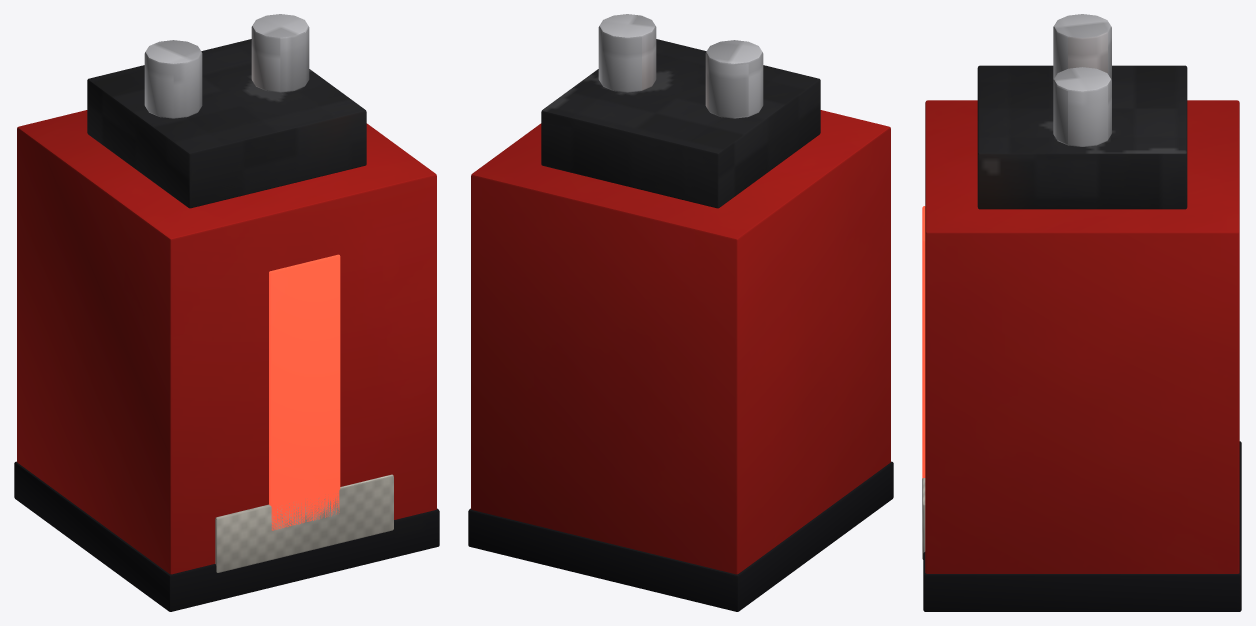
The model's file is prop_battery.glb.
The picture shows the model from 3 angles, left to right: view 1: azimuth 30°, elevation 25°; view 2: azimuth 150°, elevation 25°; view 3: azimuth 270°, elevation 25°; orthographic projection.
Parts seen in each view (by area): view 1: prop_battery; view 2: prop_battery; view 3: prop_battery.
Part boxes in pixels (x1,y1,x2,y2): prop_battery: [14, 14, 439, 611]; prop_battery: [468, 14, 893, 611]; prop_battery: [922, 14, 1241, 611].
Size of the model in its own units: 0.152 by 0.26 by 0.1525.
Materials: 6 (6 with a texture image).
